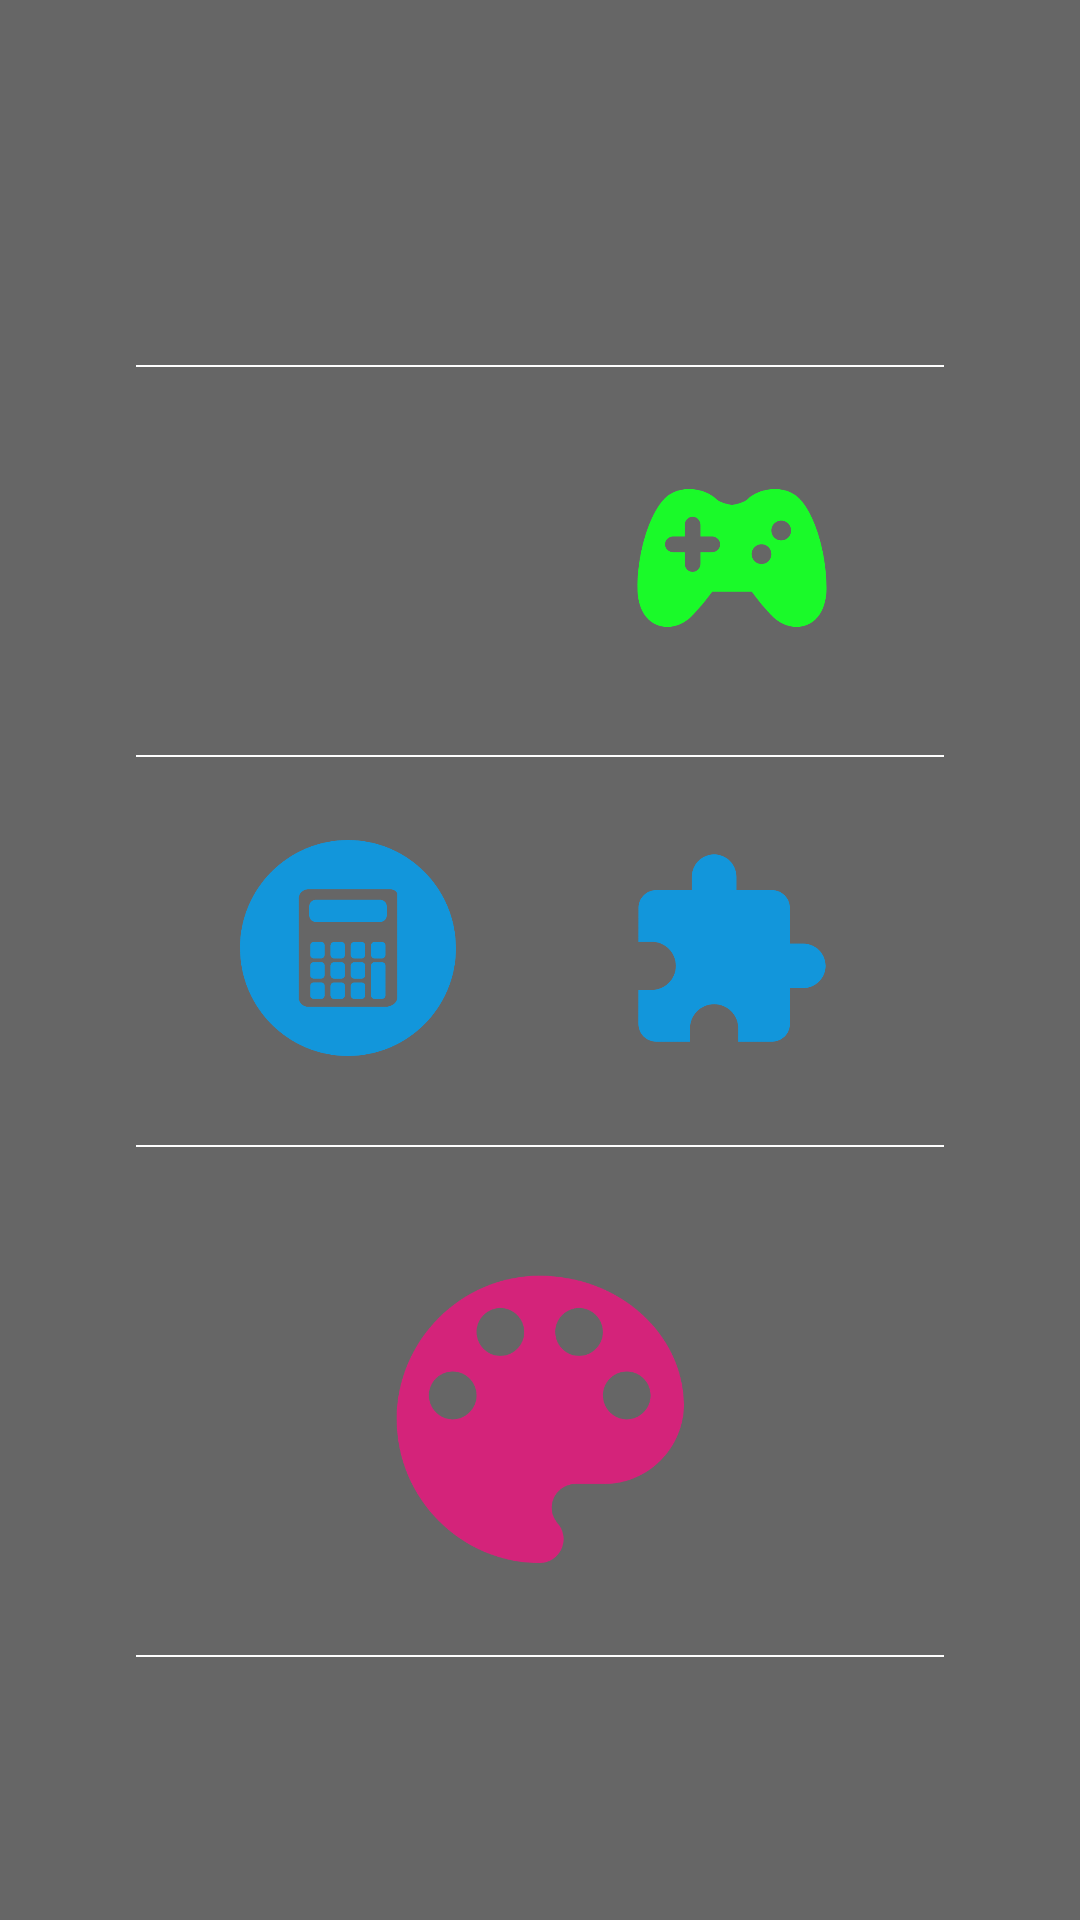

Named icons in this screenshot (1080 x 1920) and their centers, [x,y]:
calculate: [348,948]
game: [732,558]
jigsaw: [732,948]
